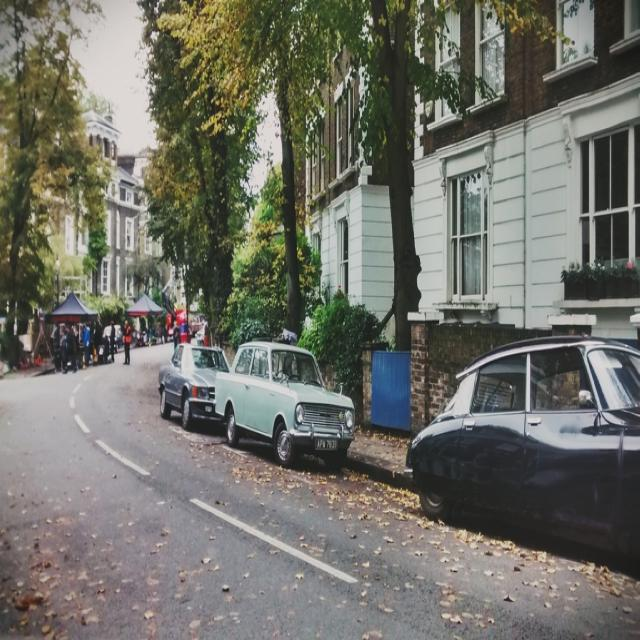car: (216, 332, 353, 473)
